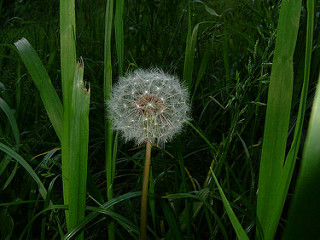dandelion white: (103, 65, 193, 147)
